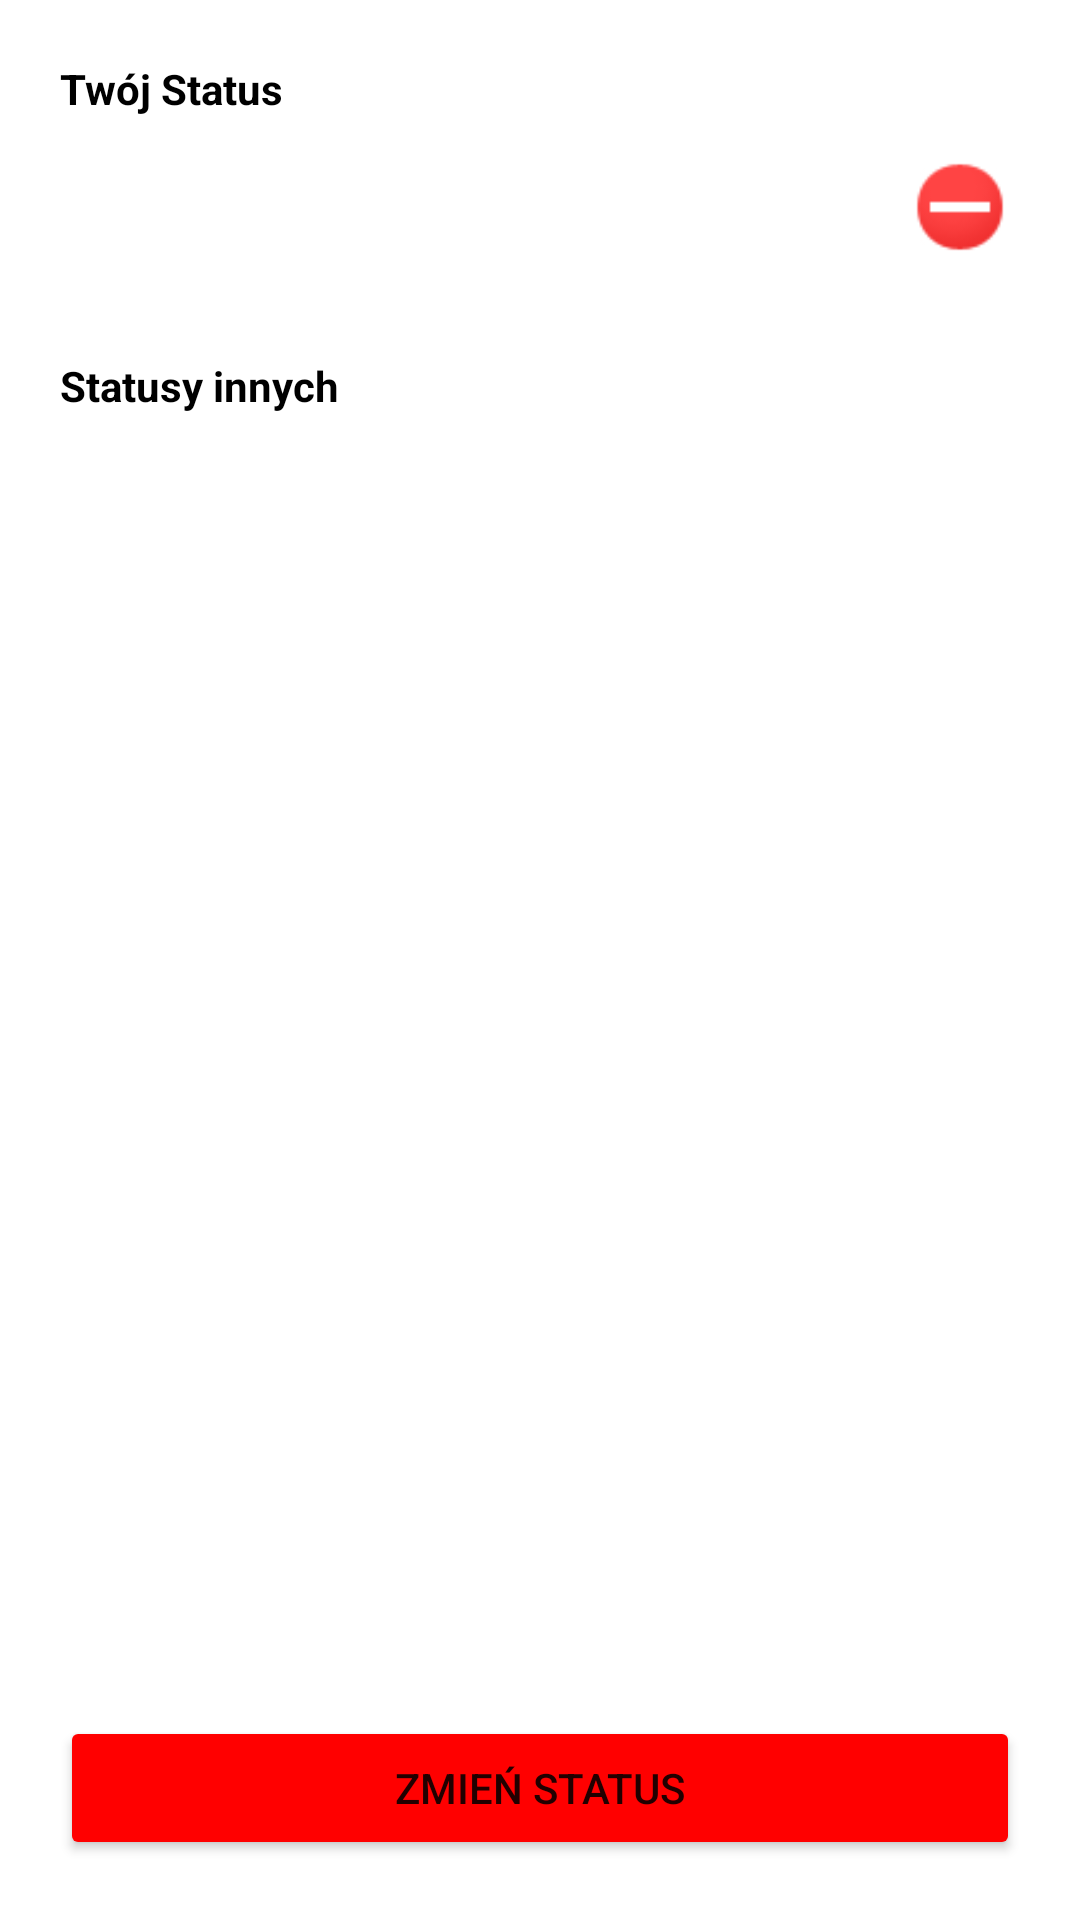

Named icons in this screenshot (1080px×1920px) and their centers, (x=x, y=y):
presence busy: (x=960, y=207)
